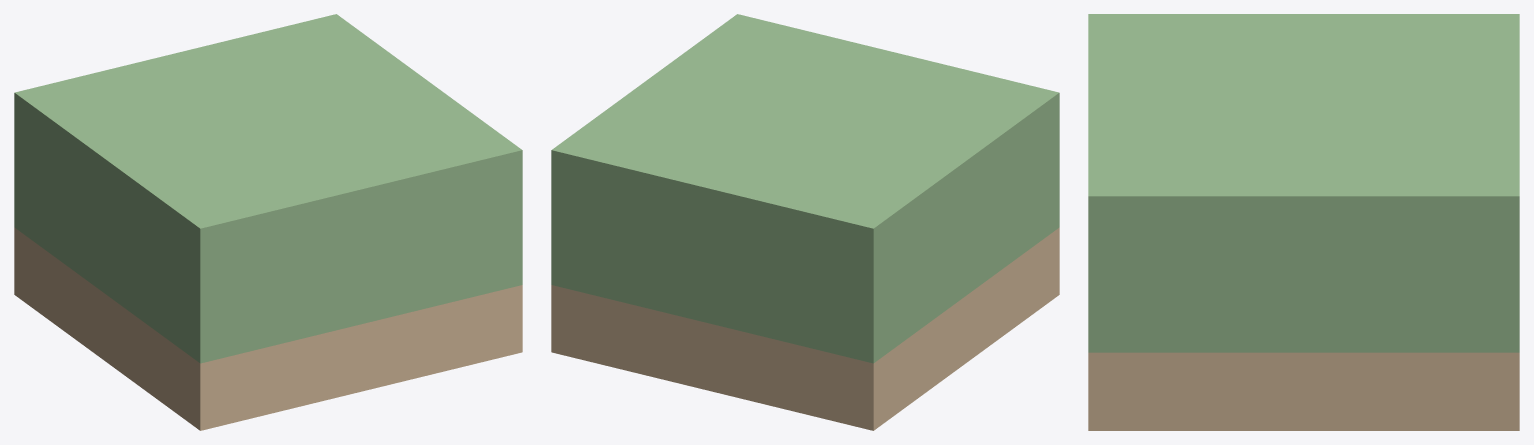
Rendered from tower-defense-classic--tile-105.glb.
3 views of the same model, side by side, from view 1: azimuth 30°, elevation 25°; view 2: azimuth 150°, elevation 25°; view 3: azimuth 270°, elevation 25° (orthographic). The views are drawn at different scales.
Visible parts, largest first — view 1: tile_105; view 2: tile_105; view 3: tile_105.
Boxes of the visible parts, x1,y1,x2,y2 form: tile_105: (14,14,522,430); tile_105: (551,14,1059,430); tile_105: (1088,14,1519,430).
Bounding box in the file's own units: 1 × 0.6 × 1.
